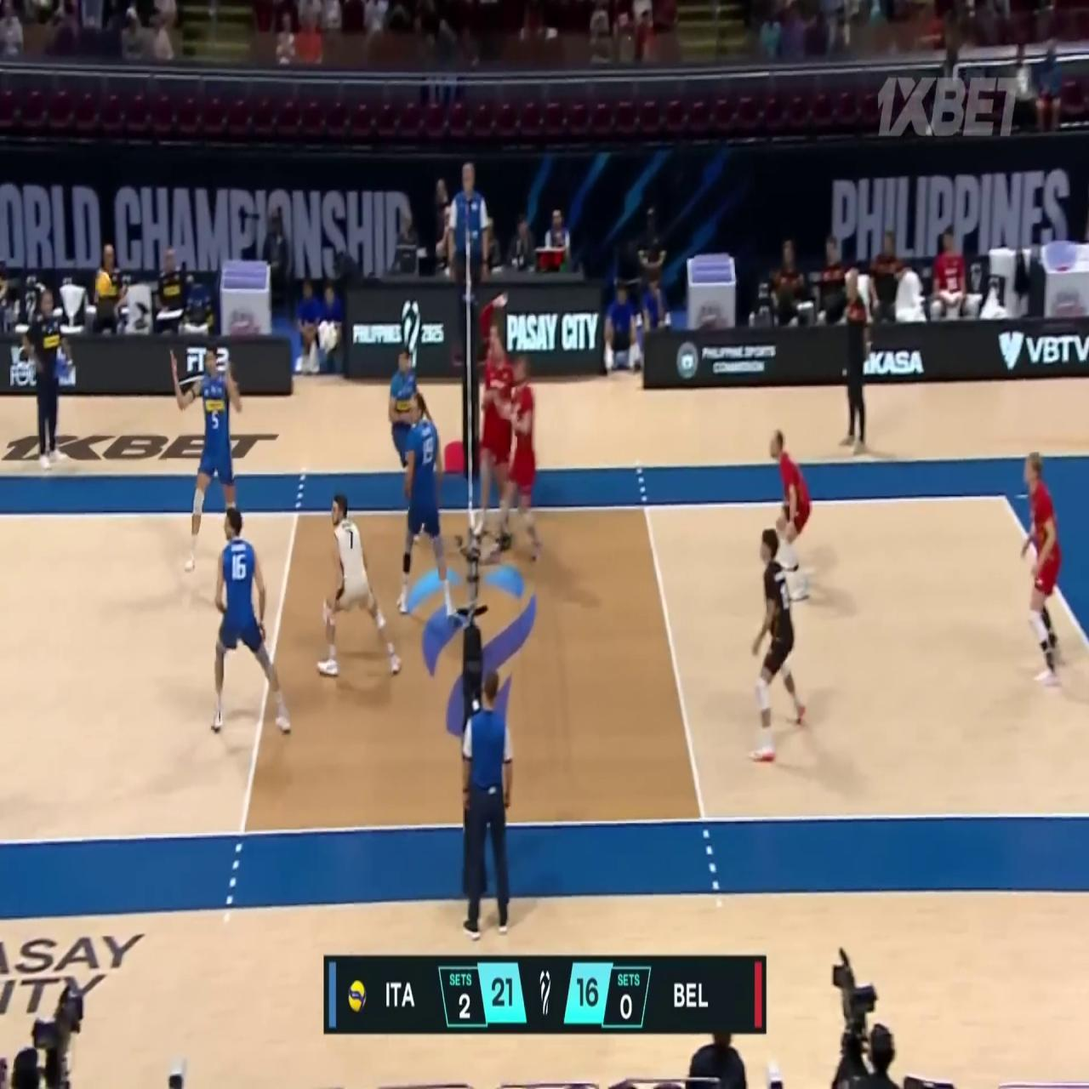ball: (94, 271, 111, 296)
